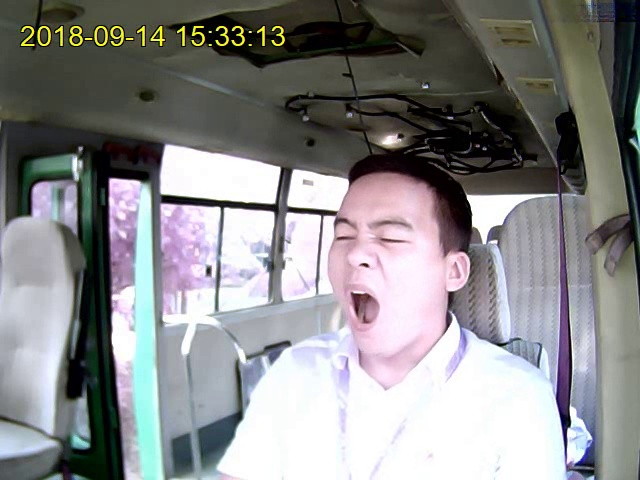closed_eye: (376, 234, 410, 248), (332, 231, 359, 246)
open_mouth: (341, 282, 383, 334)
